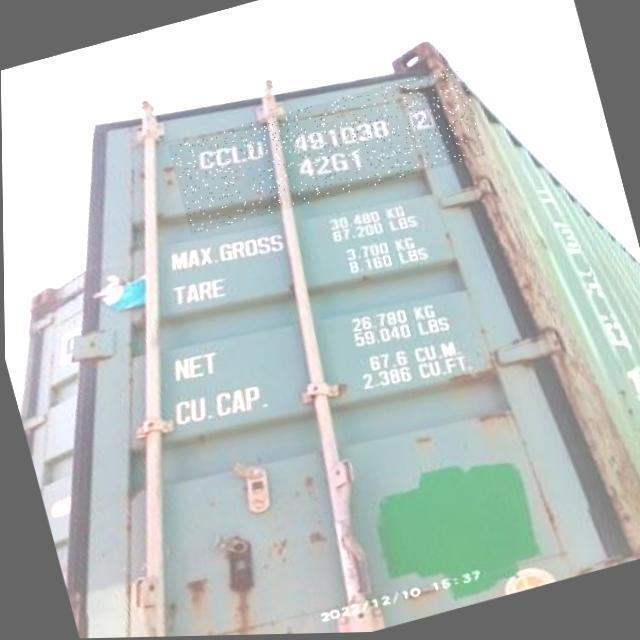ISO: (288, 143, 366, 190)
container_number: (190, 106, 438, 177)
